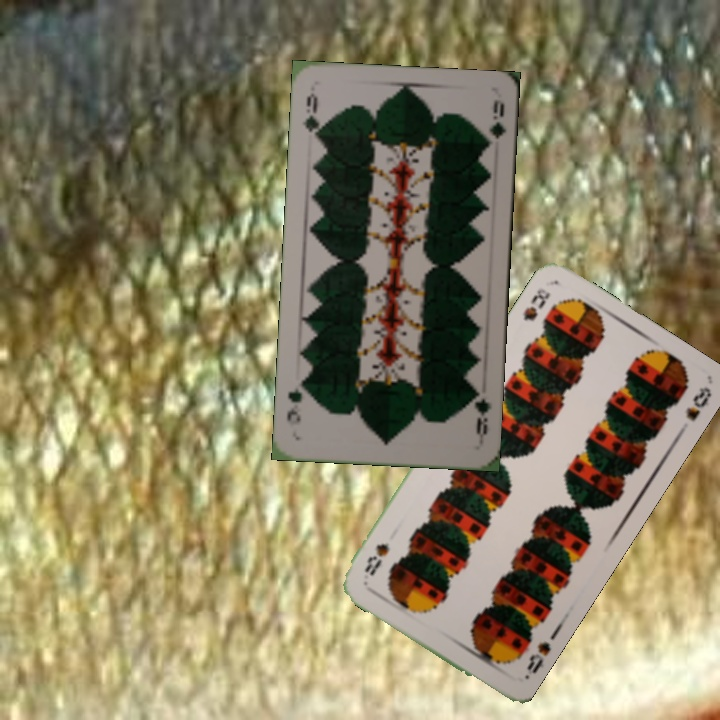G9: (467, 385, 494, 444), (298, 89, 323, 143)
S8: (519, 284, 553, 324), (522, 637, 553, 677)
